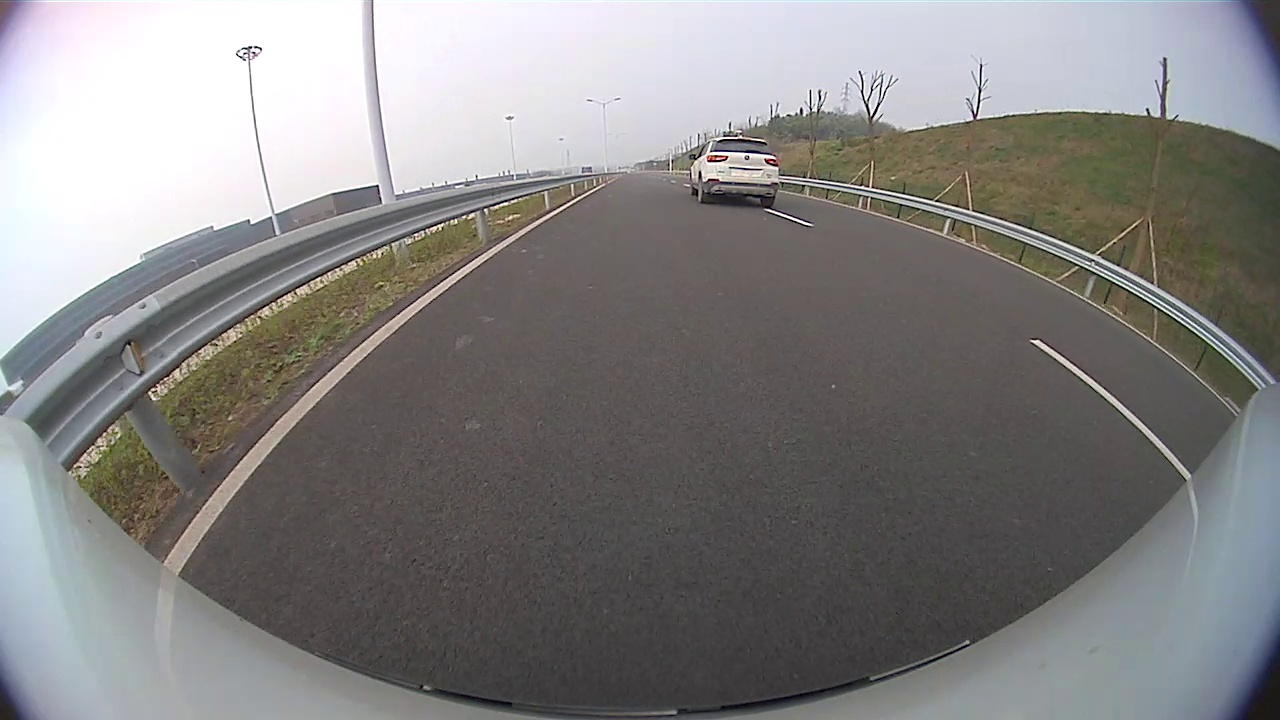car: (689, 137, 780, 208)
rear: (695, 175, 707, 205)
